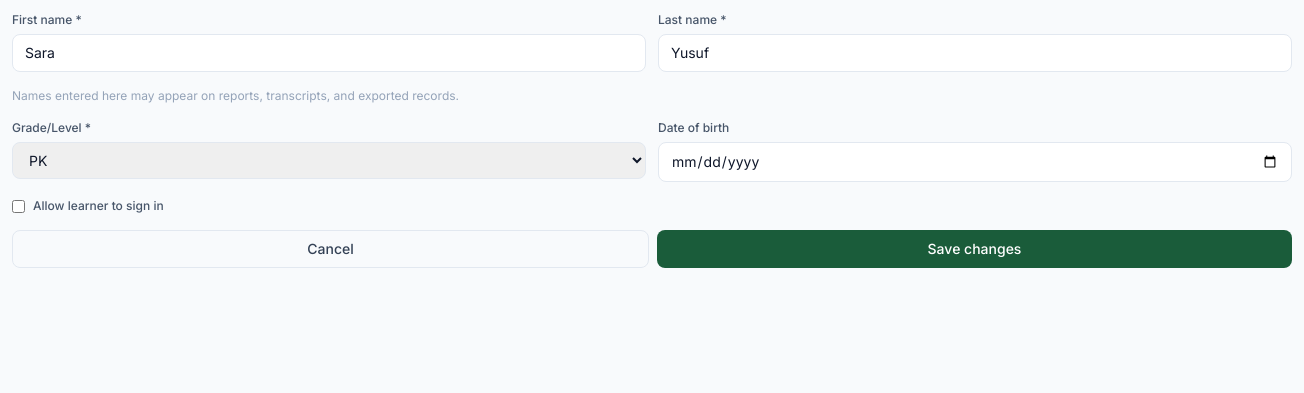
Test case: Learner login save failures are visible (item 5) › newly enabling login still requires a password
Step 1. Click the checkbox labelled "Allow learner to sign in" → (18, 206), box [12, 200, 25, 212]
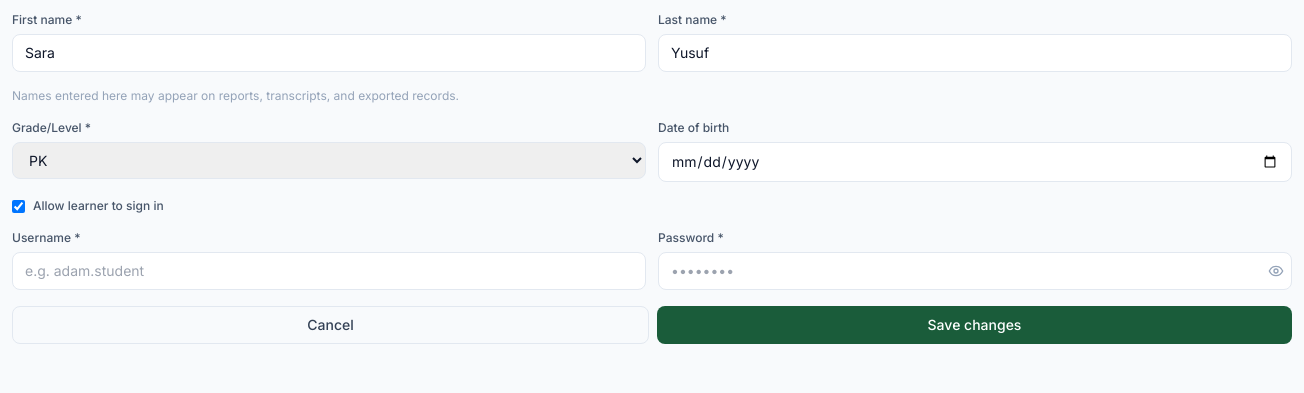
Step 2. Type "sara.student" into the field labelled "Username *" → (329, 271), box [12, 252, 646, 290]
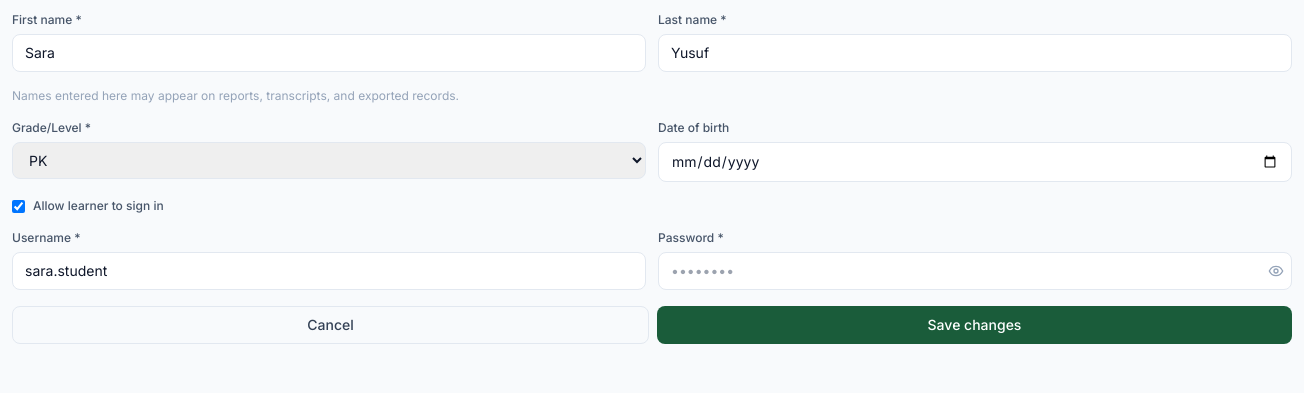
Step 3. Click the button "Save changes" → (974, 325), box [657, 306, 1292, 344]
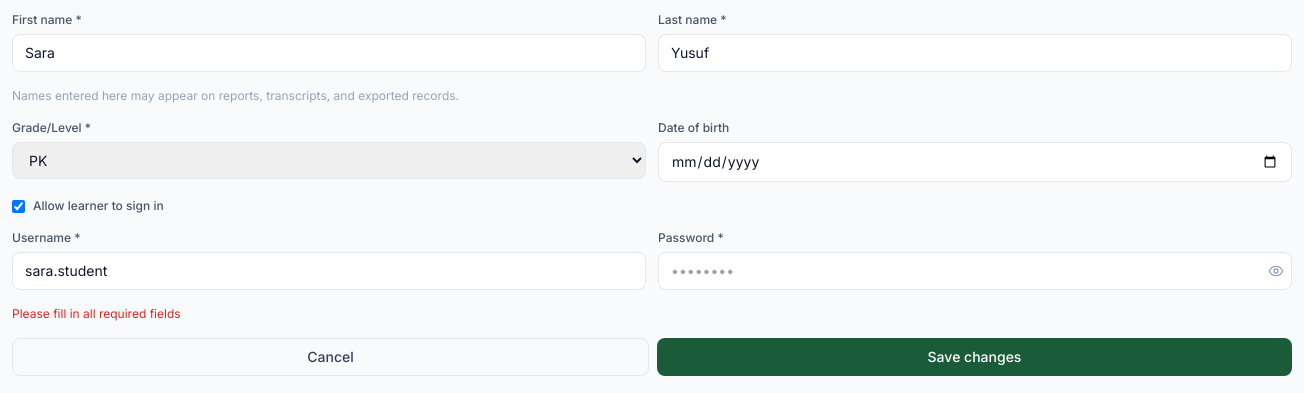
Expected: the text "Please fill in all required fields" is shown, [12, 306, 181, 321]
